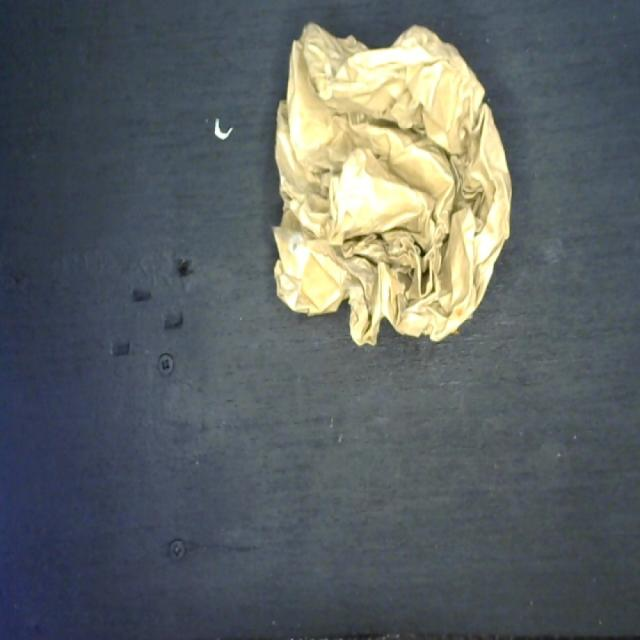biodegradable: (266, 14, 520, 355)
